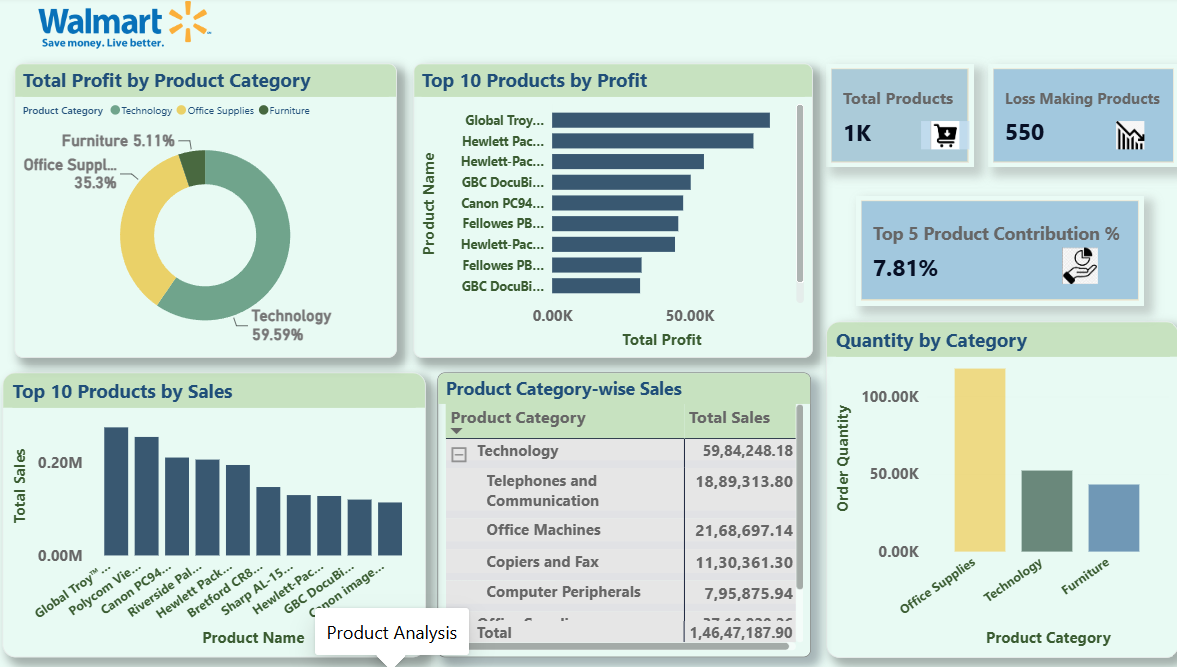

Layout of this report page (visuals, bound fields, positions):
{"tool":"powerbi","page":{"name":"Product Analysis","canvas":[1280,720],"ordinal":2},"visuals":[{"type":"clusteredColumnChart","title":"Top 10 Products by Sales","fields":{"Category":["Dim Product.Product Name"],"Y":["Measures for visuals.Total Sales"]},"box":[8.3,400,448.3,301.7],"z":0},{"type":"donutChart","fields":{"Category":["walmart Retail Data.Product Category"],"Y":["Measures for visuals.Total Profit"]},"box":[20,71.7,405,311.7],"z":1000},{"type":"image","box":[0,0,275.4,60.8],"z":2000},{"type":"clusteredBarChart","title":"Top 10 Products by Profit","fields":{"Category":["walmart Retail Data.Product Name"],"Y":["Measures for visuals.Total Profit"]},"box":[443.3,71.7,423.3,311.7],"z":3000},{"type":"clusteredColumnChart","title":"Quantity by Category","fields":{"Y":["Sum(walmart Retail Data.Order Quantity)"],"Category":["walmart Retail Data.Product Category"]},"box":[881.7,345,375,356.7],"z":4000},{"type":"cardVisual","fields":{"Data":["Measures for visuals.Total Products"]},"box":[881.7,71.7,156.7,110],"z":5000},{"type":"cardVisual","fields":{"Data":["Measures for visuals.Loss Making Products"]},"box":[1053.3,71.7,203.3,110],"z":6000},{"type":"cardVisual","fields":{"Data":["Measures for visuals.Top 5 Product Contribution %"]},"box":[913.3,211.7,305,116.7],"z":7000},{"type":"pivotTable","title":"Product Category-wise Sales","fields":{"Rows":["walmart Retail Data.Product Category","walmart Retail Data.Product Sub-Category"],"Values":["Measures for visuals.Total Sales"]},"box":[470,400,396,302],"z":8000},{"type":"image","box":[976.7,126.7,61.7,40],"z":9000},{"type":"image","box":[1175,126.7,56.7,40],"z":10000},{"type":"image","box":[1126.7,256.7,48.3,60],"z":11000}]}

Visuals, with their boxes in screenshot pixels (x1, y1, x2, y2), scaled from the page's 1280x720 canvas onto the 1177x667 screenshot:
"Top 10 Products by Sales" clusteredColumnChart: (x1=8, y1=371, x2=420, y2=650)
donutChart - walmart Retail Data.Product Category x Measures for visuals.Total Profit: (x1=18, y1=66, x2=391, y2=355)
image: (x1=0, y1=0, x2=253, y2=56)
"Top 10 Products by Profit" clusteredBarChart: (x1=408, y1=66, x2=797, y2=355)
"Quantity by Category" clusteredColumnChart: (x1=811, y1=320, x2=1156, y2=650)
cardVisual - Measures for visuals.Total Products: (x1=811, y1=66, x2=955, y2=168)
cardVisual - Measures for visuals.Loss Making Products: (x1=969, y1=66, x2=1155, y2=168)
cardVisual - Measures for visuals.Top 5 Product Contribution %: (x1=840, y1=196, x2=1120, y2=304)
"Product Category-wise Sales" pivotTable: (x1=432, y1=371, x2=796, y2=650)
image: (x1=898, y1=117, x2=955, y2=154)
image: (x1=1080, y1=117, x2=1133, y2=154)
image: (x1=1036, y1=238, x2=1080, y2=293)
